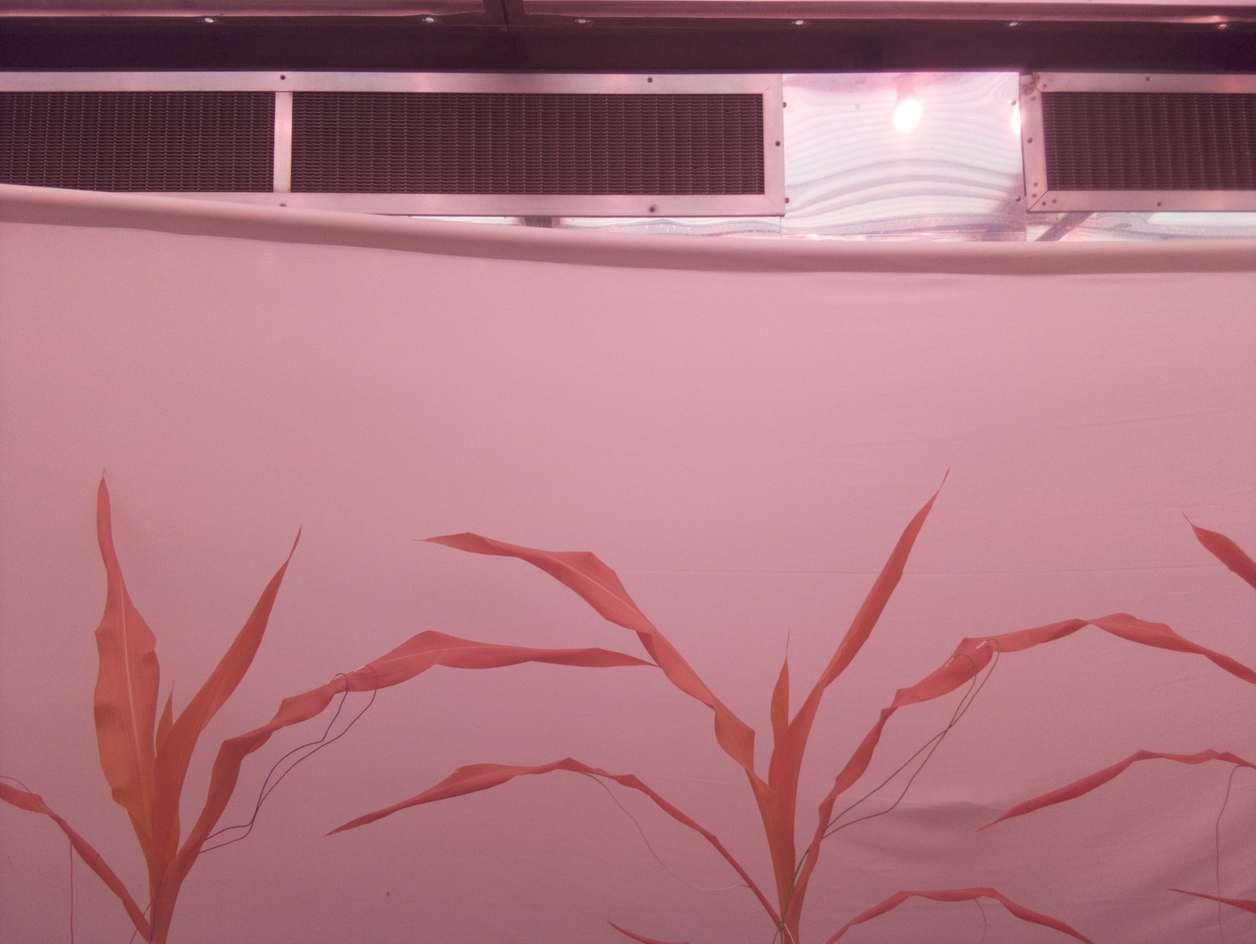maize: (321, 462, 1256, 944), (0, 467, 659, 944)
